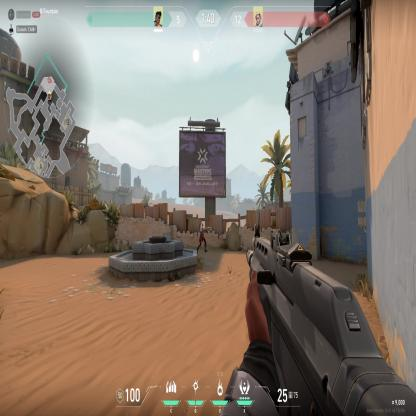enemy: (196, 222, 209, 254)
